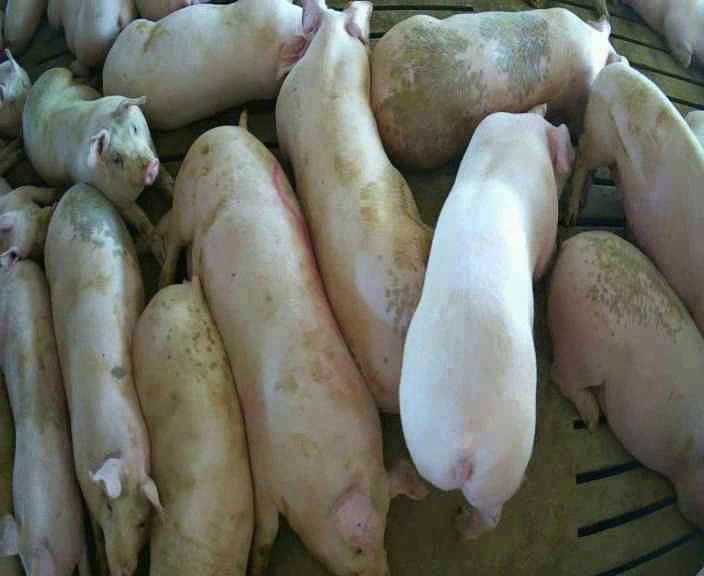pig: (400, 104, 573, 535), (276, 1, 431, 411), (548, 232, 703, 528), (45, 183, 159, 574), (569, 62, 703, 332), (134, 279, 253, 574), (22, 68, 174, 265), (0, 260, 91, 575), (103, 2, 306, 128), (48, 1, 135, 76)
